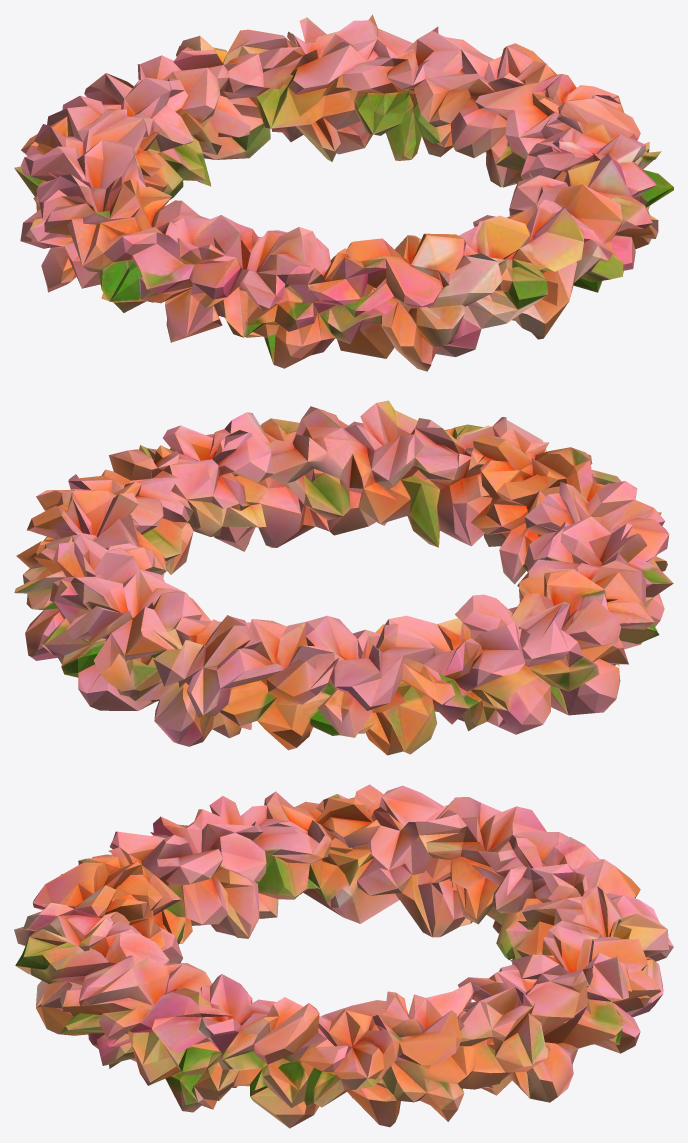
The model's file is lei.glb.
The picture shows the model from 3 angles, top to bottom: view 1: azimuth 30°, elevation 25°; view 2: azimuth 150°, elevation 25°; view 3: azimuth 270°, elevation 25°; orthographic projection. The views are drawn at different scales.
Size of the model in its own units: 1.88 by 0.363 by 1.9.
Materials: 1 (1 with a texture image).
